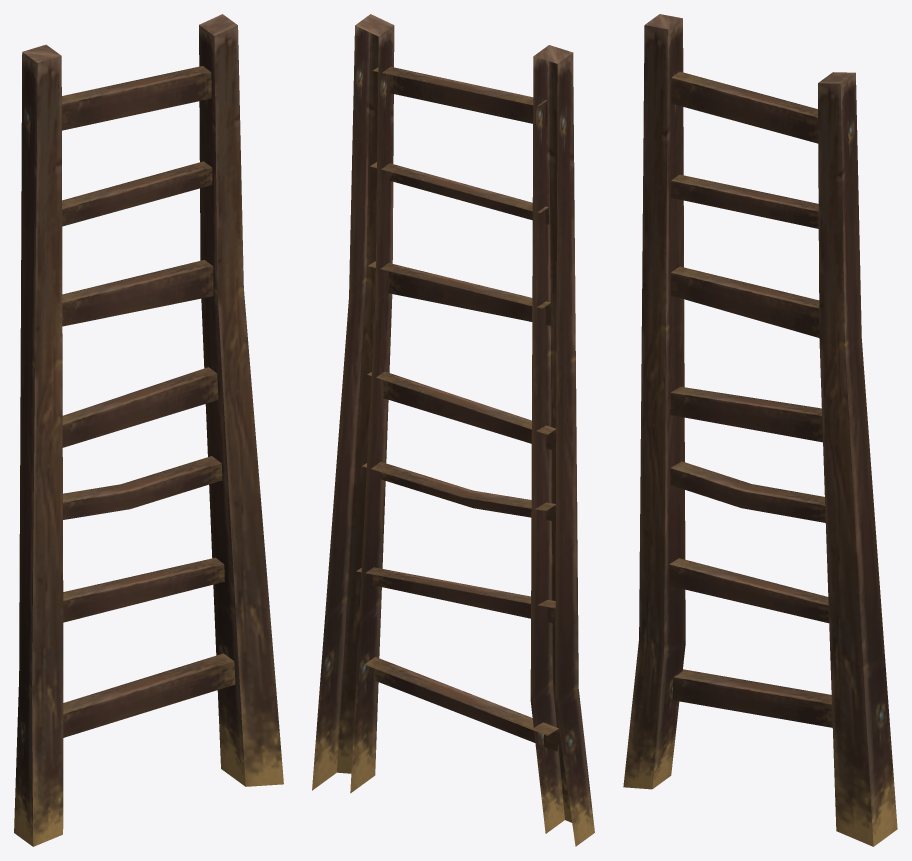
File: common_shamo_muti.FBX
3 renders of one model, left to right at view 1: azimuth 30°, elevation 25°; view 2: azimuth 150°, elevation 25°; view 3: azimuth 330°, elevation 25°, orthographic. The views are drawn at different scales.
Parts seen in each view (by area): view 1: common_shamo_muti; view 2: common_shamo_muti; view 3: common_shamo_muti.
Part boxes in pixels (bbox=[...]): common_shamo_muti: bbox=[14, 14, 283, 846]; common_shamo_muti: bbox=[312, 14, 594, 846]; common_shamo_muti: bbox=[623, 14, 897, 846].
Bounding box in the file's own units: 2.11 × 6.18 × 0.3914.
